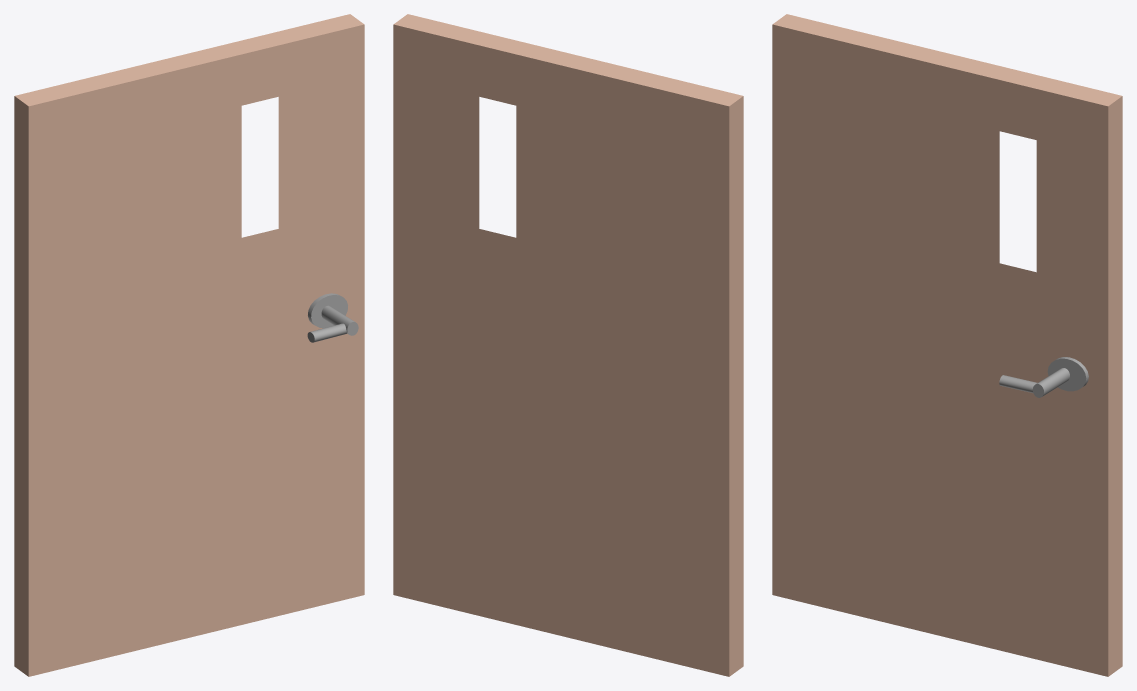
The model's file is door.fbx.
3 views of the same model, side by side, from view 1: azimuth 30°, elevation 25°; view 2: azimuth 150°, elevation 25°; view 3: azimuth 330°, elevation 25° (orthographic).
Visible parts, largest first — view 1: pCylinder5; view 2: pCylinder5; view 3: pCylinder5.
Part boxes in pixels (x1,y1,x2,y2): pCylinder5: (14,14,364,676); pCylinder5: (393,14,743,676); pCylinder5: (772,14,1122,676).
Bounding box in the file's own units: 4.93 × 8 × 1.12.
